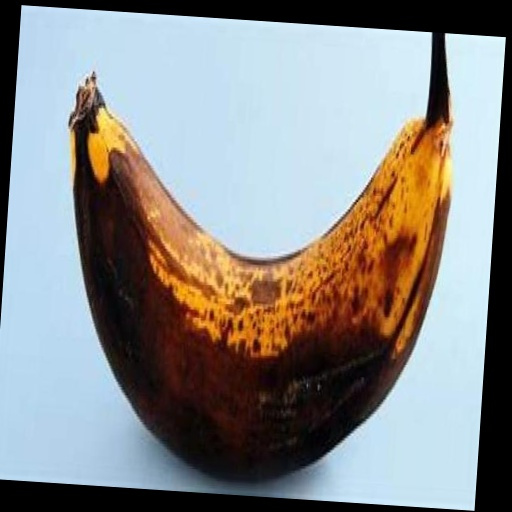fruit: (70, 32, 451, 478)
